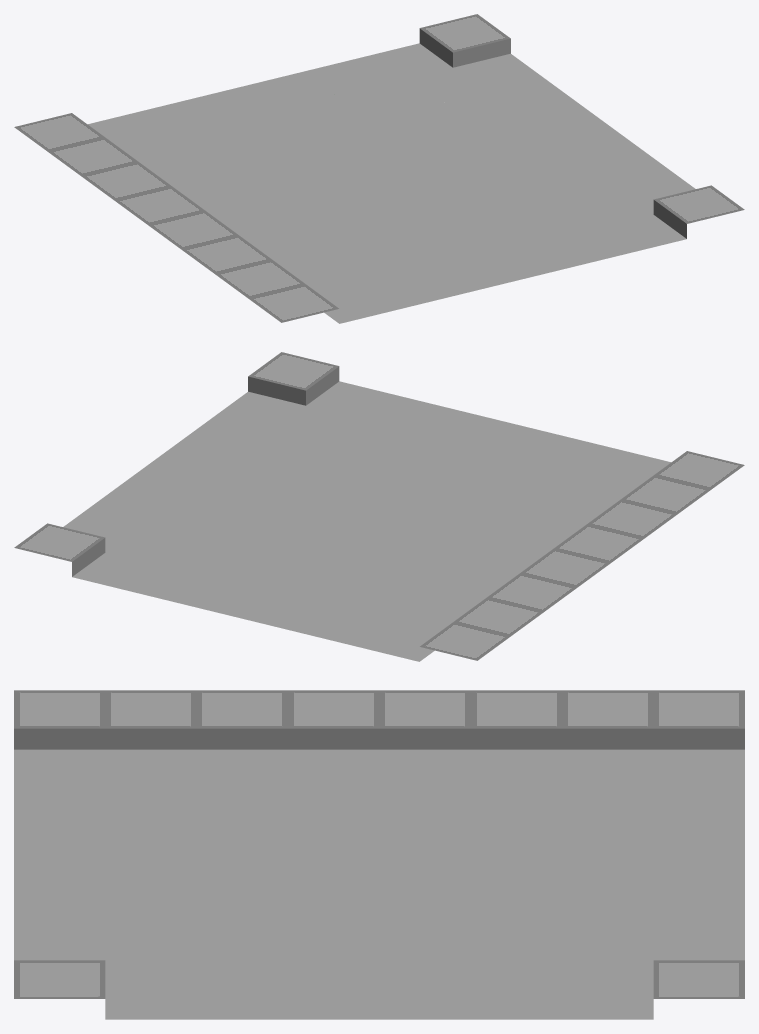
Rendered from Three_Way Intersection.gltf.
3 renders of one model, top to bottom at view 1: azimuth 30°, elevation 25°; view 2: azimuth 150°, elevation 25°; view 3: azimuth 270°, elevation 25°, orthographic. The views are drawn at different scales.
Visible parts, largest first — view 1: Three Way Intersection; view 2: Three Way Intersection; view 3: Three Way Intersection.
Boxes of the visible parts, x1,y1,x2,y2 form: Three Way Intersection: [14, 14, 744, 323]; Three Way Intersection: [14, 352, 744, 661]; Three Way Intersection: [14, 690, 744, 1019].
Size of the model in its own units: 8 by 0.25 by 8.
1 material, 1 textured.
